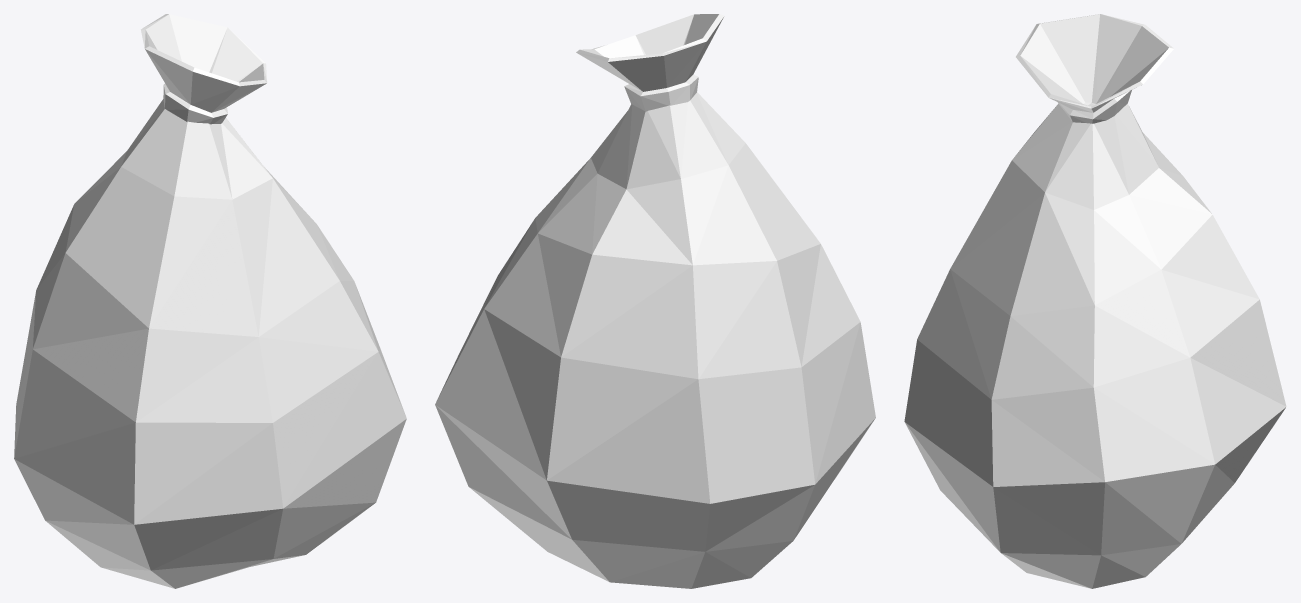
The model's file is Prop_Trash_Bag_02.glb.
3 renders of one model, left to right at view 1: azimuth 30°, elevation 25°; view 2: azimuth 150°, elevation 25°; view 3: azimuth 270°, elevation 25°, orthographic. The views are drawn at different scales.
Parts seen in each view (by area): view 1: Prop_Trash Bag_02; view 2: Prop_Trash Bag_02; view 3: Prop_Trash Bag_02.
Boxes of the visible parts, x1,y1,x2,y2 form: Prop_Trash Bag_02: [14, 14, 406, 588]; Prop_Trash Bag_02: [435, 14, 875, 588]; Prop_Trash Bag_02: [904, 14, 1286, 588].
Bounding box in the file's own units: 0.516 × 0.7077 × 0.4882.
Materials: 1 (1 with a texture image).
